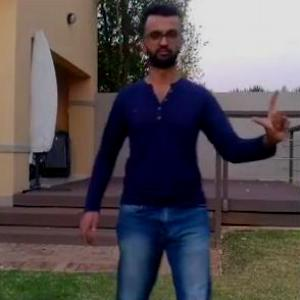land_hand: (247, 84, 294, 153)
